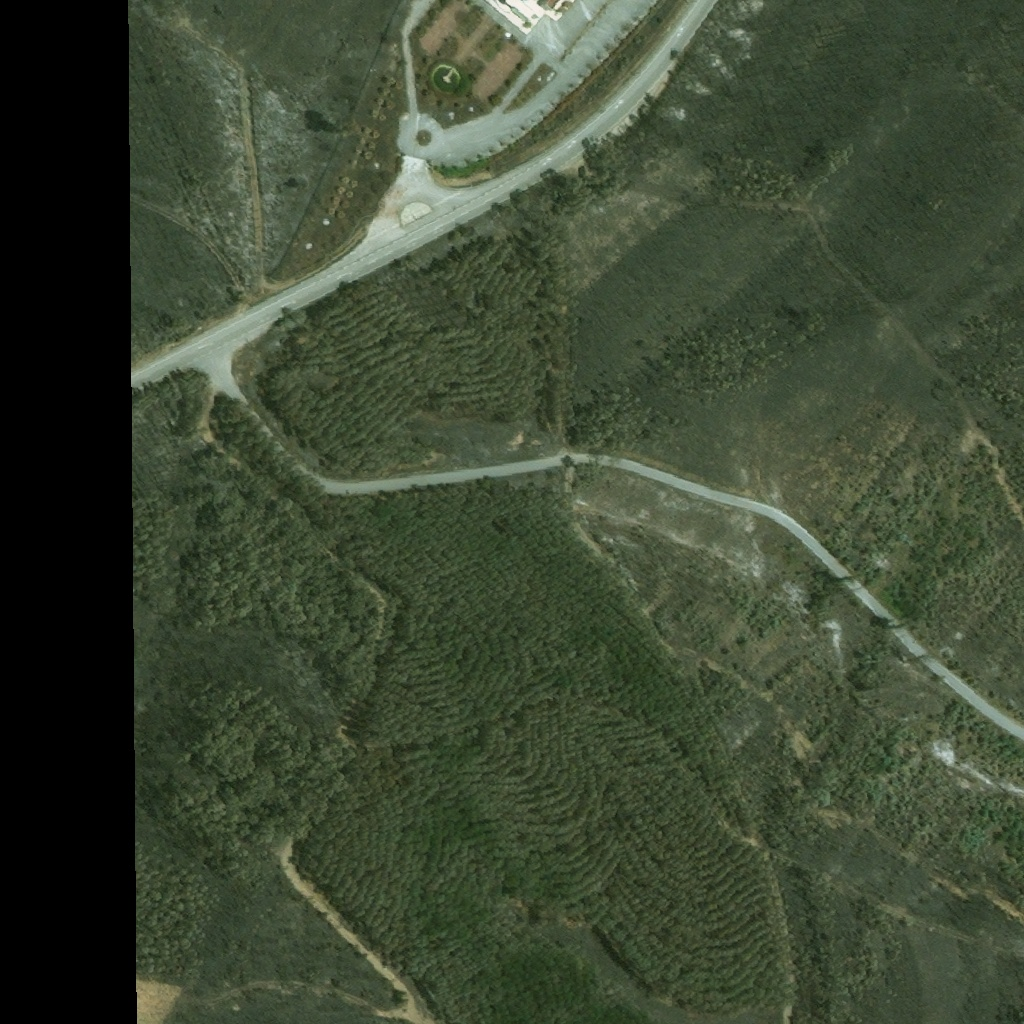0 no-damage: (501, 0, 577, 26)
